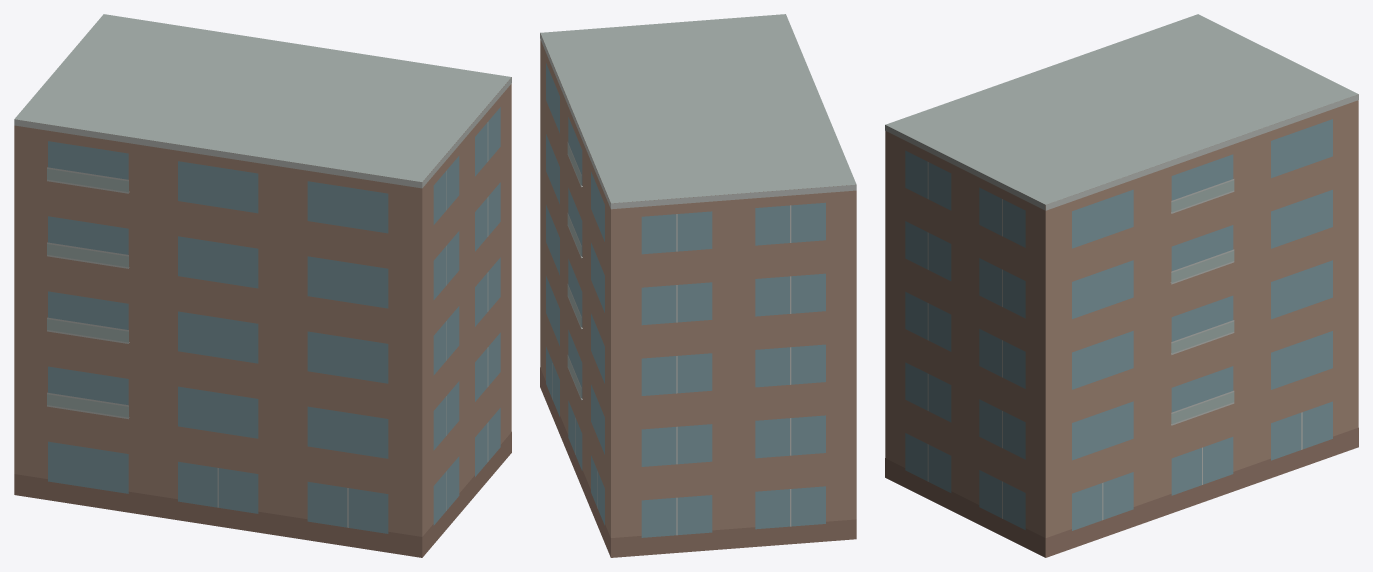
Rendered from survey-upis-32951661.glb.
3 renders of one model, left to right at view 1: azimuth 30°, elevation 25°; view 2: azimuth 150°, elevation 25°; view 3: azimuth 270°, elevation 25°, orthographic. The views are drawn at different scales.
Parts seen in each view (by area): view 1: survey-upis-32951661.tmp; view 2: survey-upis-32951661.tmp; view 3: survey-upis-32951661.tmp.
Part boxes in pixels (bbox=[...]): survey-upis-32951661.tmp: bbox=[14, 14, 511, 557]; survey-upis-32951661.tmp: bbox=[540, 14, 856, 557]; survey-upis-32951661.tmp: bbox=[885, 14, 1358, 557].
Size of the model in its own units: 17.06 by 14.7 by 17.88.
